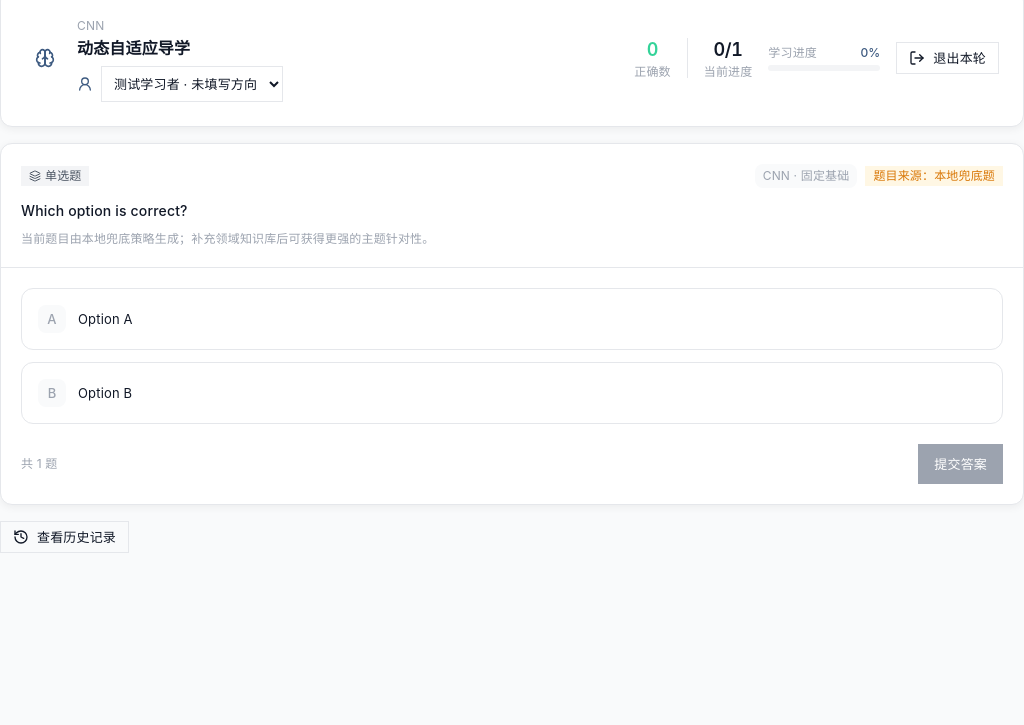
it: AdaptiveGuidance page › keeps both explanation tabs available after a result is returned
Click the button "B Option B" at point(105, 393), box [21,362,1003,424]
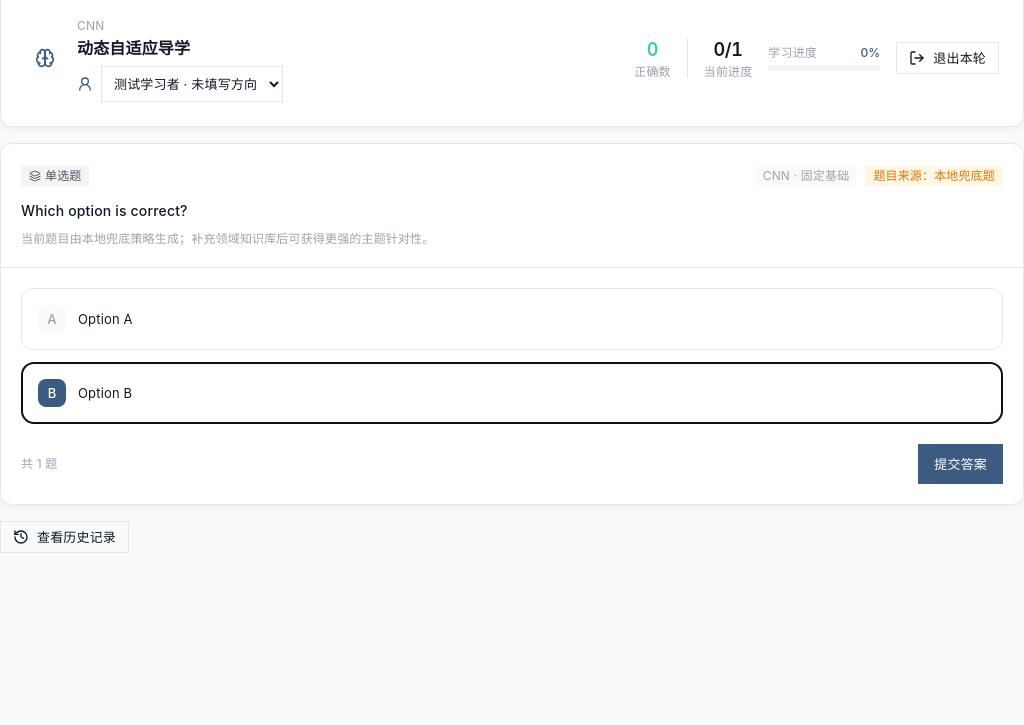
Click the button "提交答案" at point(961, 464), box [918,444,1003,484]
(page scrolled)
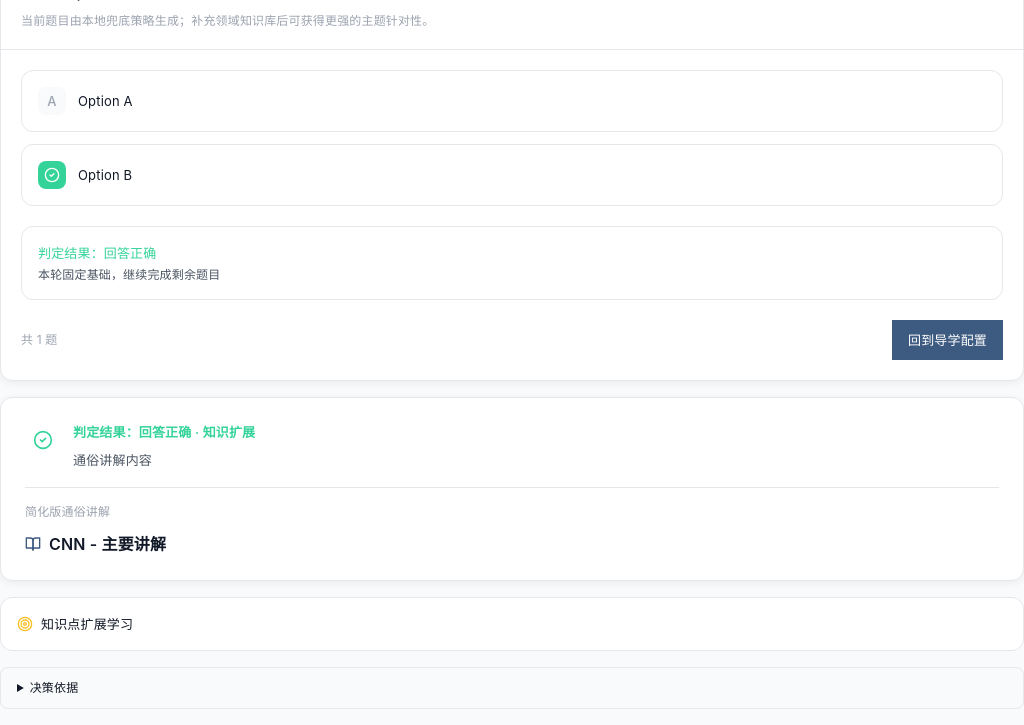
Expected: the text "简化版通俗讲解" is shown, [25,504,110,519]
Expected: the button "知识点扩展学习" is enabled
Click the button "知识点扩展学习" at point(75, 624), box [17,616,133,632]
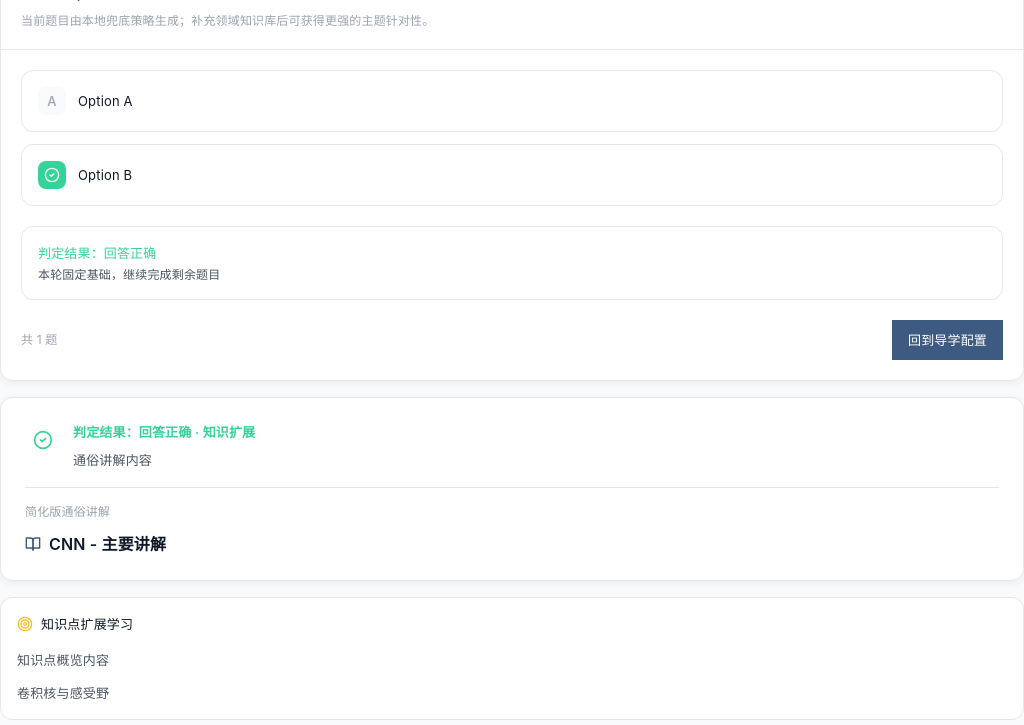
Expected: the text "知识点概览内容" is shown, [17,652,109,668]
